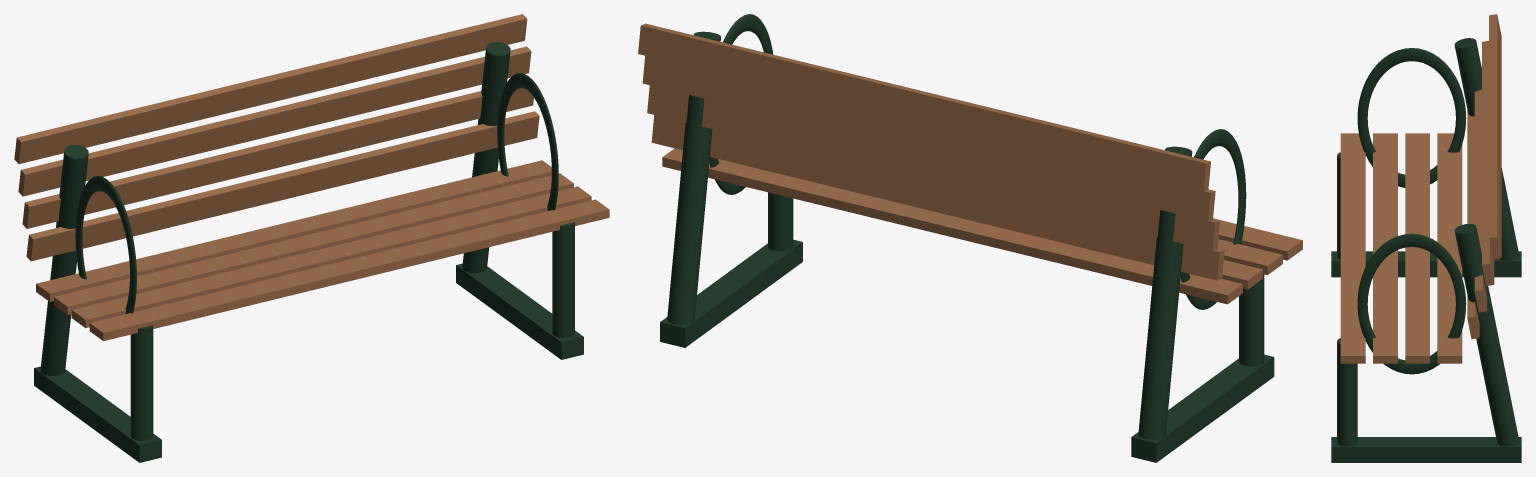
File: canal-bench.glb
The picture shows the model from 3 angles, left to right: view 1: azimuth 30°, elevation 25°; view 2: azimuth 150°, elevation 25°; view 3: azimuth 270°, elevation 25°; orthographic projection. The views are drawn at different scales.
Visible parts, largest first — view 1: Cube.009, Cube.006, Cube.008, Cube.007, Cube.002, Cube.005, Cube.004, Cube.003, Cylinder.001, Cube.001, Cube, Cylinder.003 (+4 smaller); view 2: Cube.009, Cube.008, Cube.007, Cube.006, Cube.005, Cylinder.001, Cylinder.003, Cube, Cube.001, Cylinder, Torus, Cube.002 (+4 smaller); view 3: Cube.002, Cube.004, Cube.003, Cube.005, Cube.001, Cylinder.003, Torus.001, Torus, Cube.009, Cylinder.001, Cube.008, Cylinder.002 (+4 smaller).
Boxes of the visible parts, bbox=[...] form: Cube.009: bbox=[14, 14, 527, 163]; Cube.006: bbox=[26, 111, 539, 261]; Cube.008: bbox=[18, 46, 531, 196]; Cube.007: bbox=[22, 88, 533, 228]; Cube.002: bbox=[89, 199, 609, 341]; Cube.005: bbox=[36, 160, 551, 301]; Cube.004: bbox=[54, 173, 573, 314]; Cube.003: bbox=[71, 186, 591, 328]; Cylinder.001: bbox=[40, 145, 88, 375]; Cube.001: bbox=[456, 263, 583, 359]; Cube: bbox=[34, 366, 161, 462]; Cylinder.003: bbox=[462, 42, 510, 272]; Cube.009: bbox=[638, 23, 1210, 191]; Cube.008: bbox=[642, 56, 1215, 221]; Cube.007: bbox=[647, 85, 1219, 250]; Cube.006: bbox=[651, 115, 1224, 280]; Cube.005: bbox=[662, 148, 1242, 304]; Cylinder.001: bbox=[1138, 146, 1192, 439]; Cylinder.003: bbox=[667, 31, 720, 324]; Cube: bbox=[1131, 354, 1274, 462]; Cube.001: bbox=[660, 239, 802, 347]; Cylinder: bbox=[1239, 274, 1264, 366]; Torus: bbox=[1180, 129, 1246, 309]; Cube.002: bbox=[1213, 218, 1302, 260]; Cube.002: bbox=[1340, 133, 1365, 363]; Cube.004: bbox=[1405, 133, 1429, 363]; Cube.003: bbox=[1373, 133, 1397, 363]; Cube.005: bbox=[1437, 133, 1462, 363]; Cube.001: bbox=[1331, 437, 1521, 462]; Cylinder.003: bbox=[1454, 224, 1519, 446]; Torus.001: bbox=[1357, 233, 1466, 374]; Torus: bbox=[1357, 48, 1466, 187]; Cube.009: bbox=[1489, 14, 1501, 259]; Cylinder.001: bbox=[1454, 38, 1519, 260]; Cube.008: bbox=[1482, 40, 1494, 285]; Cylinder.002: bbox=[1337, 338, 1357, 446].
Size of the model in its own units: 1.8 by 0.9028 by 0.65.
